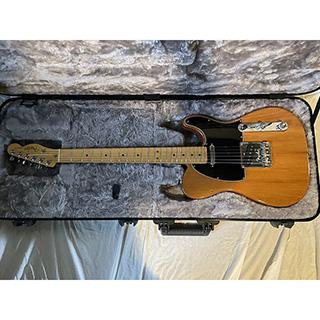Fender Telecaster: (6, 104, 310, 208)
SS: (207, 140, 259, 171)
